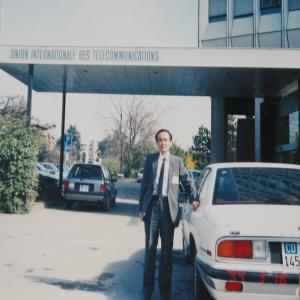Vehicle-registration-plate: (282, 244, 300, 271), (81, 185, 90, 193)
